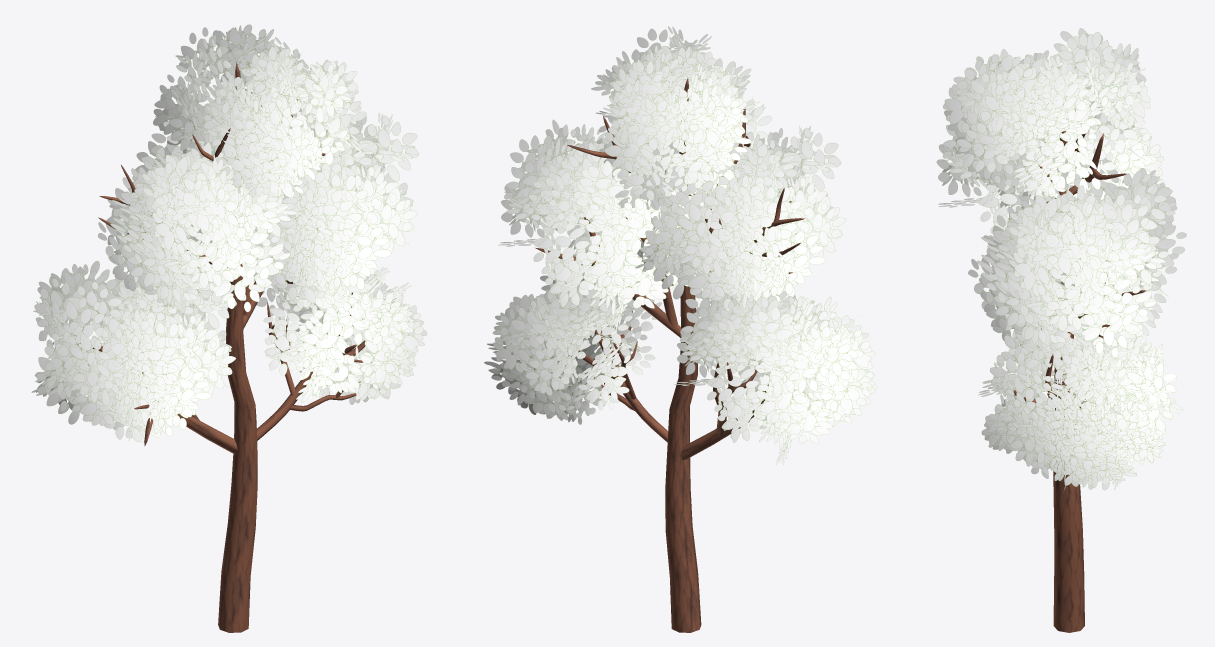
Rendered from tree2.glb.
The picture shows the model from 3 angles, left to right: view 1: azimuth 30°, elevation 25°; view 2: azimuth 150°, elevation 25°; view 3: azimuth 270°, elevation 25°; orthographic projection. The views are drawn at different scales.
Visible parts, largest first — view 1: NormalTree_2, NormalTree_2.001; view 2: NormalTree_2, NormalTree_2.001; view 3: NormalTree_2, NormalTree_2.001.
Part boxes in pixels (left/top/right/bottom): NormalTree_2: left=31, top=24, right=427, bottom=632; NormalTree_2.001: left=47, top=39, right=417, bottom=437; NormalTree_2: left=484, top=26, right=877, bottom=632; NormalTree_2.001: left=502, top=50, right=865, bottom=458; NormalTree_2: left=936, top=28, right=1186, bottom=632; NormalTree_2.001: left=944, top=37, right=1172, bottom=484.
Bounding box in the file's own units: 4.55 × 6.56 × 2.79.
Materials: 4 (4 with a texture image).
